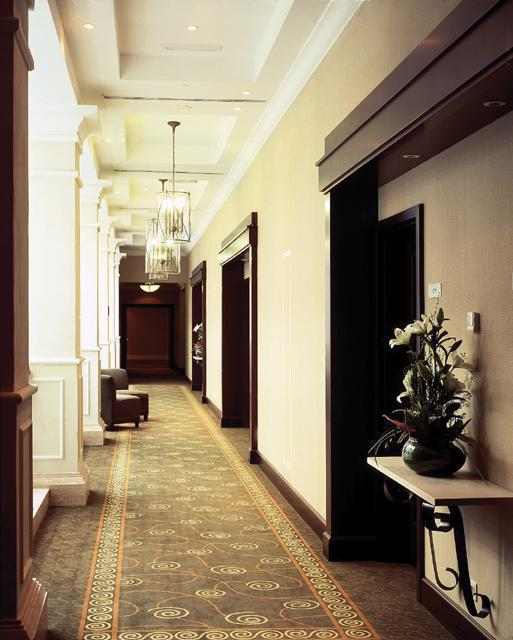Matera: (386, 316, 485, 484)
